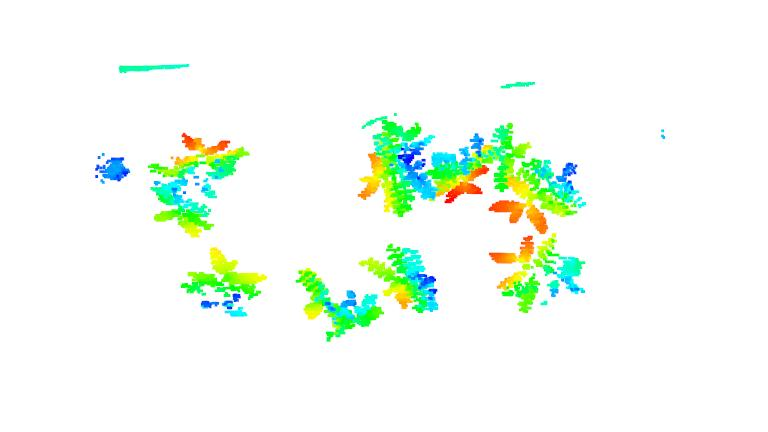chickpea: (149, 130, 251, 236), (356, 113, 436, 217), (488, 157, 588, 239), (430, 119, 523, 205), (486, 235, 588, 313), (178, 244, 269, 319), (292, 268, 383, 342), (357, 242, 441, 315)
